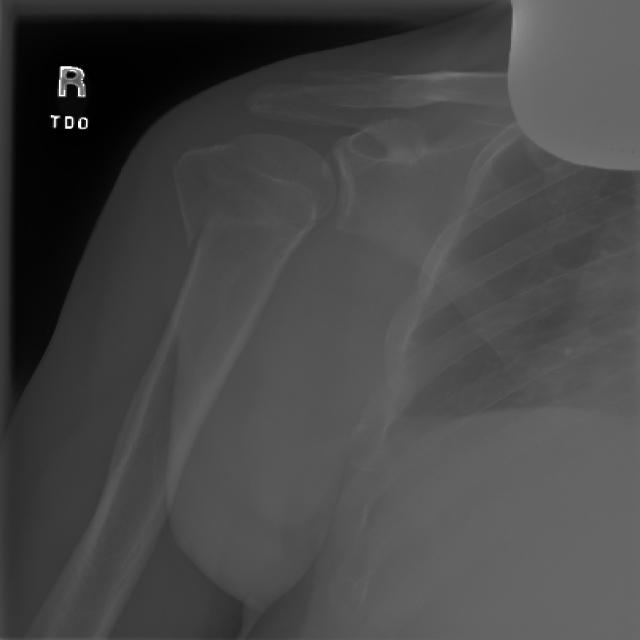shoulder fracture: (158, 200, 238, 303)
